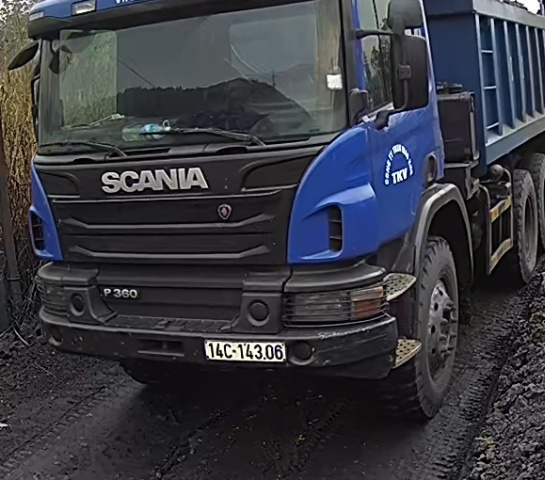vehicle plate: (200, 334, 293, 364)
